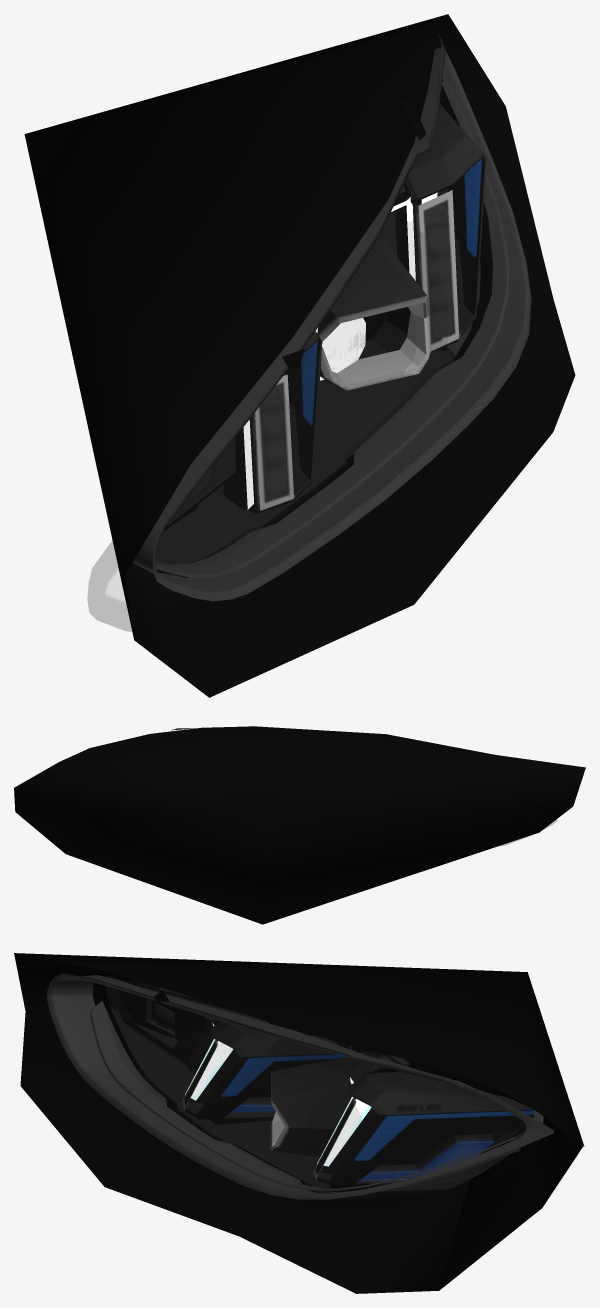
Rendered from headlight-front-right-1.gltf.
3 views of the same model, one above another, from view 1: azimuth 30°, elevation 25°; view 2: azimuth 150°, elevation 25°; view 3: azimuth 270°, elevation 25° (orthographic). The views are drawn at different scales.
Parts seen in each view (by area): view 1: m4:body_Mesh_0_car_body_m4:car_plast1_0_433, m4:body_Mesh_0_car_body_m4:car_glass1_0_431, m4:body_Mesh_0_car_body_m4:car_emissive1_0_437; view 2: m4:body_Mesh_0_car_body_m4:car_plast1_0_433, m4:body_Mesh_0_car_body_m4:car_glass1_0_431; view 3: m4:body_Mesh_0_car_body_m4:car_plast1_0_433, m4:body_Mesh_0_car_body_m4:car_glass1_0_431, m4:body_Mesh_0_car_body_m4:car_emissive1_0_437.
Part boxes in pixels (box(x1,y1,x2,y2)): m4:body_Mesh_0_car_body_m4:car_plast1_0_433: box(24, 14, 575, 697); m4:body_Mesh_0_car_body_m4:car_glass1_0_431: box(87, 280, 463, 631); m4:body_Mesh_0_car_body_m4:car_emissive1_0_437: box(243, 192, 437, 509); m4:body_Mesh_0_car_body_m4:car_plast1_0_433: box(14, 726, 585, 924); m4:body_Mesh_0_car_body_m4:car_glass1_0_431: box(52, 799, 556, 847); m4:body_Mesh_0_car_body_m4:car_plast1_0_433: box(14, 953, 583, 1293); m4:body_Mesh_0_car_body_m4:car_glass1_0_431: box(102, 992, 584, 1211); m4:body_Mesh_0_car_body_m4:car_emissive1_0_437: box(185, 1023, 371, 1166).
Size of the model in its own units: 0.0055 by 0.00213 by 0.00516.
3 materials, 3 textured.
